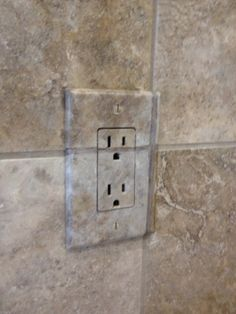outlet: (104, 133, 129, 162), (105, 181, 128, 208)
